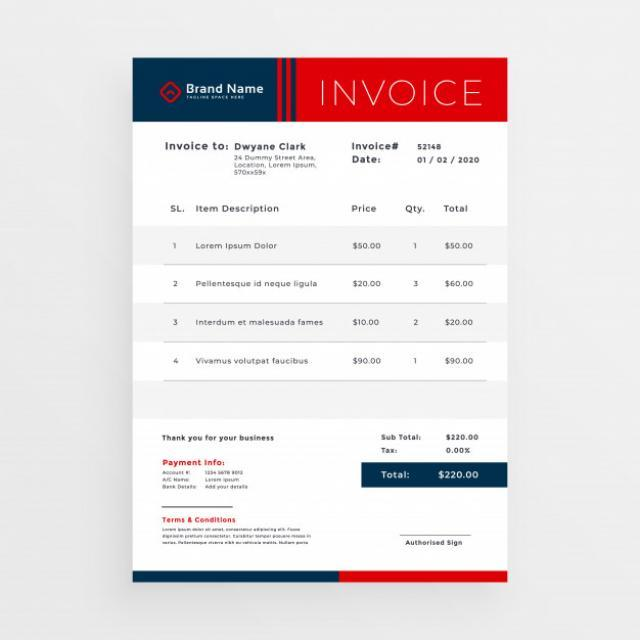customer_address: (232, 154, 322, 179)
customer_name: (232, 138, 312, 153)
invoice_date: (413, 155, 493, 169)
invoice_number: (412, 138, 447, 152)
invoice_subtotal: (441, 428, 484, 441)
invoice_total: (433, 466, 486, 485)
item_description: (188, 230, 329, 379)
item_quantity: (401, 230, 427, 377)
item_total_price: (439, 235, 479, 375)
item_unit_price: (343, 232, 390, 379)
tax_rate: (442, 444, 478, 456)
